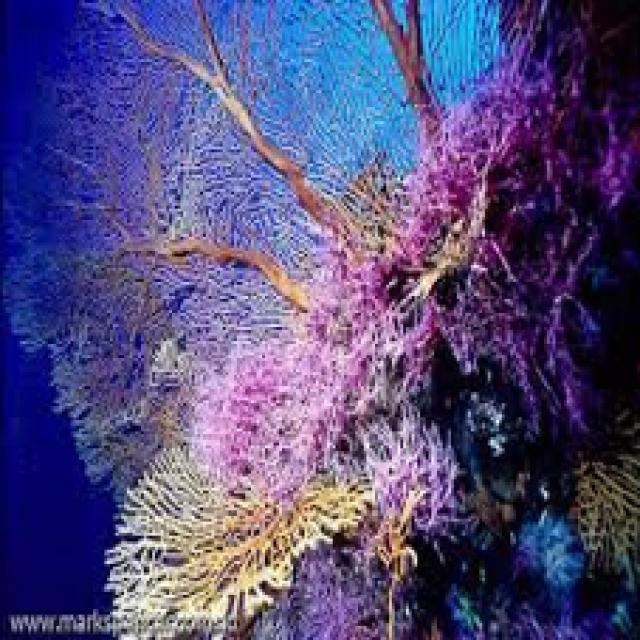Healthy: (332, 93, 571, 433), (121, 1, 355, 240), (110, 456, 361, 639), (196, 335, 351, 457), (122, 235, 320, 322), (360, 428, 477, 541), (363, 1, 450, 142), (269, 556, 374, 640), (581, 458, 640, 572)
